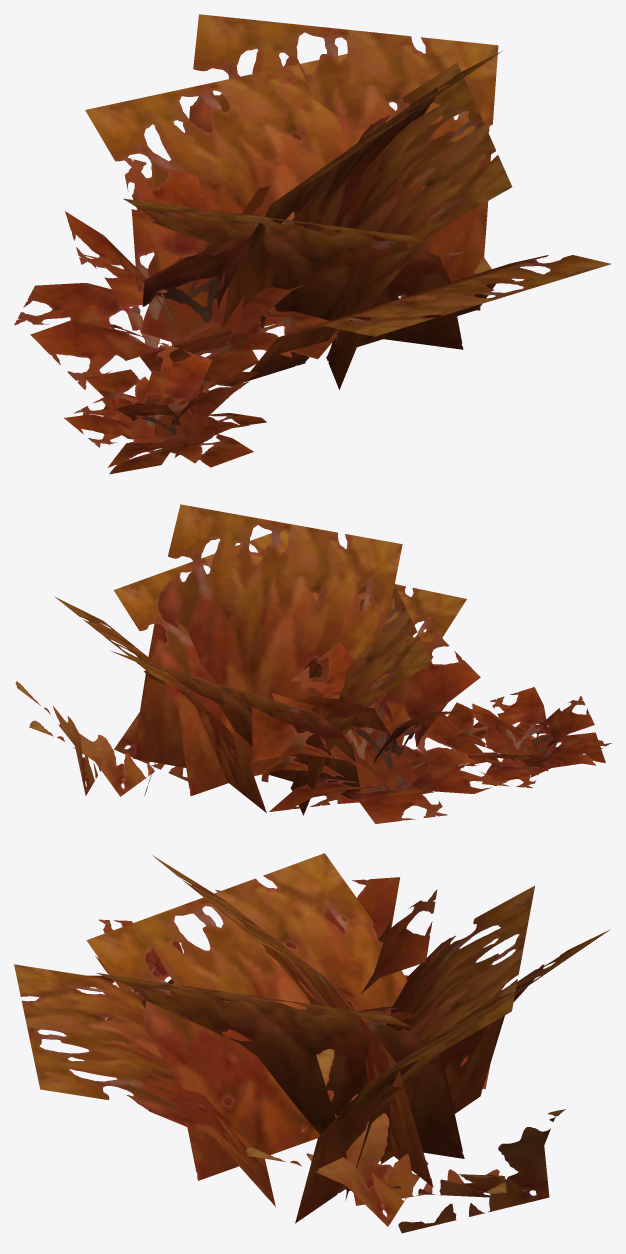
The model's file is City_bujian_41.fbx.
3 renders of one model, top to bottom at view 1: azimuth 30°, elevation 25°; view 2: azimuth 150°, elevation 25°; view 3: azimuth 270°, elevation 25°, orthographic. The views are drawn at different scales.
Visible parts, largest first — view 1: pasted__DrawCall_0066; view 2: pasted__DrawCall_0066; view 3: pasted__DrawCall_0066.
Part boxes in pixels (<box>): pasted__DrawCall_0066: <box>14,14,610,474</box>; pasted__DrawCall_0066: <box>15,504,611,823</box>; pasted__DrawCall_0066: <box>14,853,610,1233</box>.
Size of the model in its own units: 2.52 by 1.15 by 2.11.
